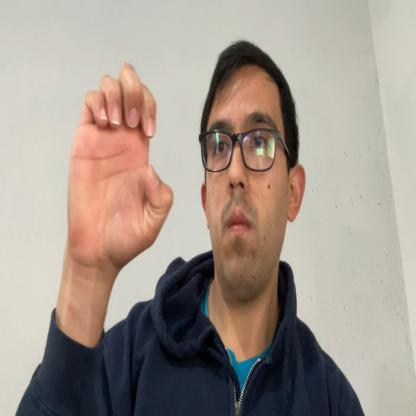E: (66, 63, 174, 266)
